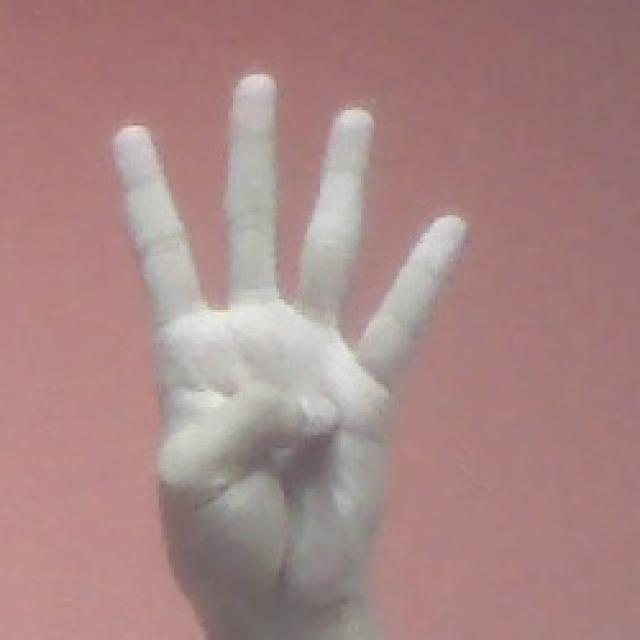Numeric-4: (108, 68, 471, 612)
